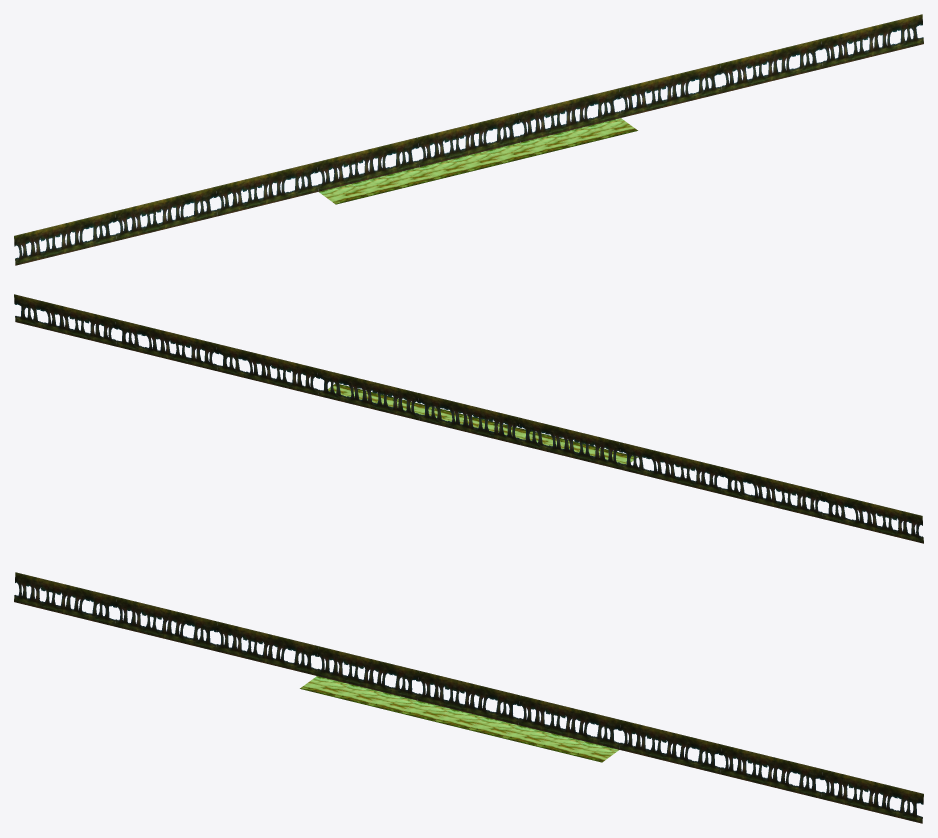
The model's file is test_stage01_fw_02_big.fbx.
The picture shows the model from 3 angles, top to bottom: view 1: azimuth 30°, elevation 25°; view 2: azimuth 150°, elevation 25°; view 3: azimuth 330°, elevation 25°; orthographic projection.
Parts seen in each view (by area): view 1: st_stage; view 2: st_stage; view 3: st_stage.
Part boxes in pixels (x1,y1,x2,y2): st_stage: (14, 14, 923, 265); st_stage: (14, 294, 923, 543); st_stage: (14, 572, 923, 823).
Bounding box in the file's own units: 600 × 18.25 × 21.6.
